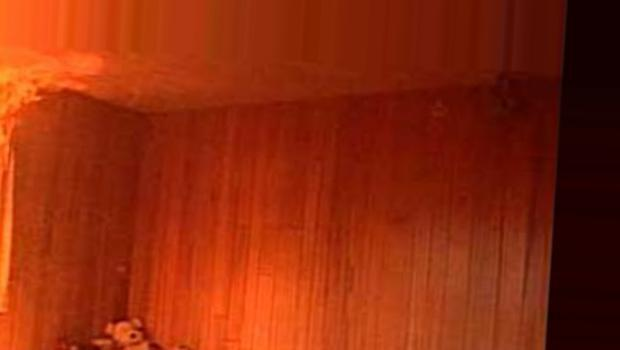fire: (2, 28, 90, 258)
